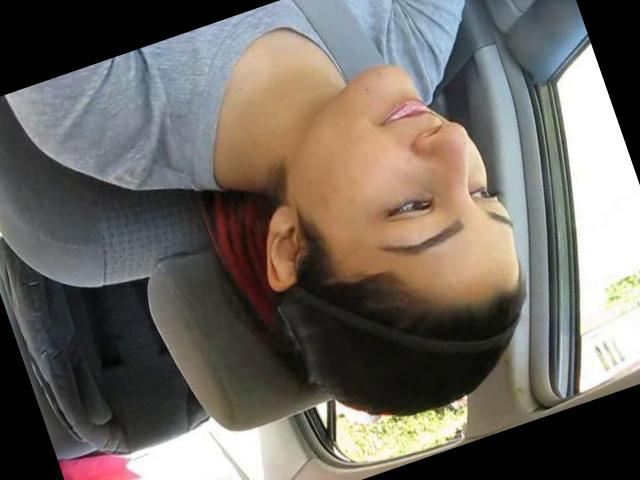eye_open: (376, 184, 443, 234), (466, 178, 498, 209)
face: (268, 38, 522, 310)
